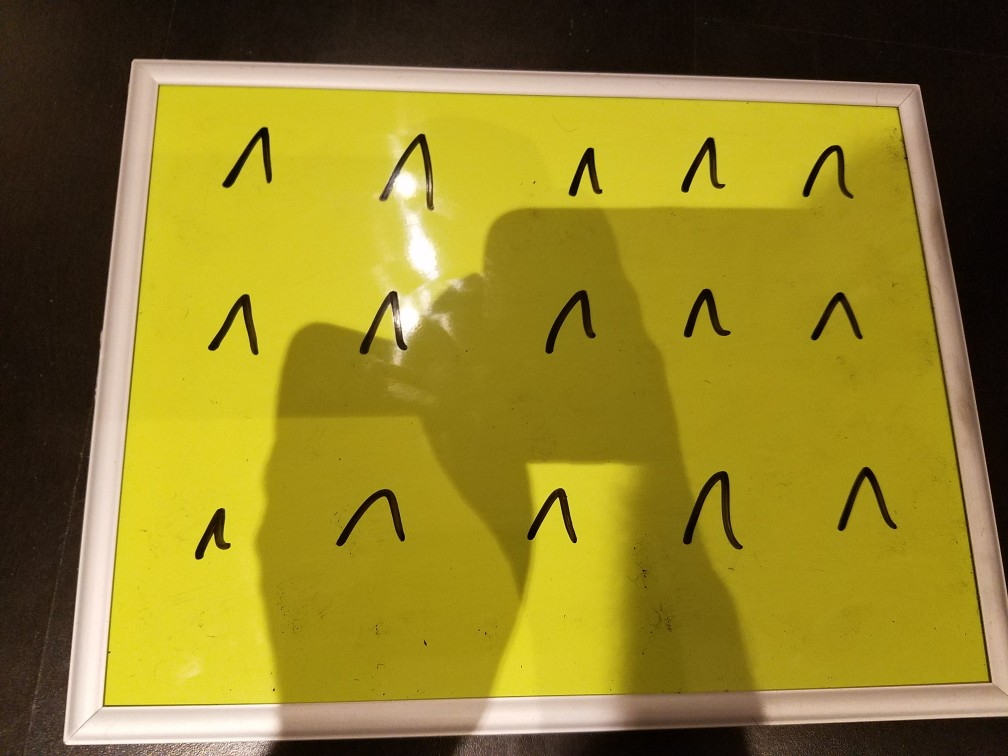^: (668, 456, 762, 562), (524, 270, 600, 369), (829, 453, 907, 547), (329, 475, 412, 557), (203, 281, 276, 370), (380, 128, 452, 211), (348, 281, 413, 371), (668, 269, 734, 356), (801, 134, 869, 210), (518, 475, 583, 551), (221, 113, 283, 192), (669, 124, 733, 200), (804, 280, 863, 351), (191, 494, 238, 571), (564, 136, 609, 201)
